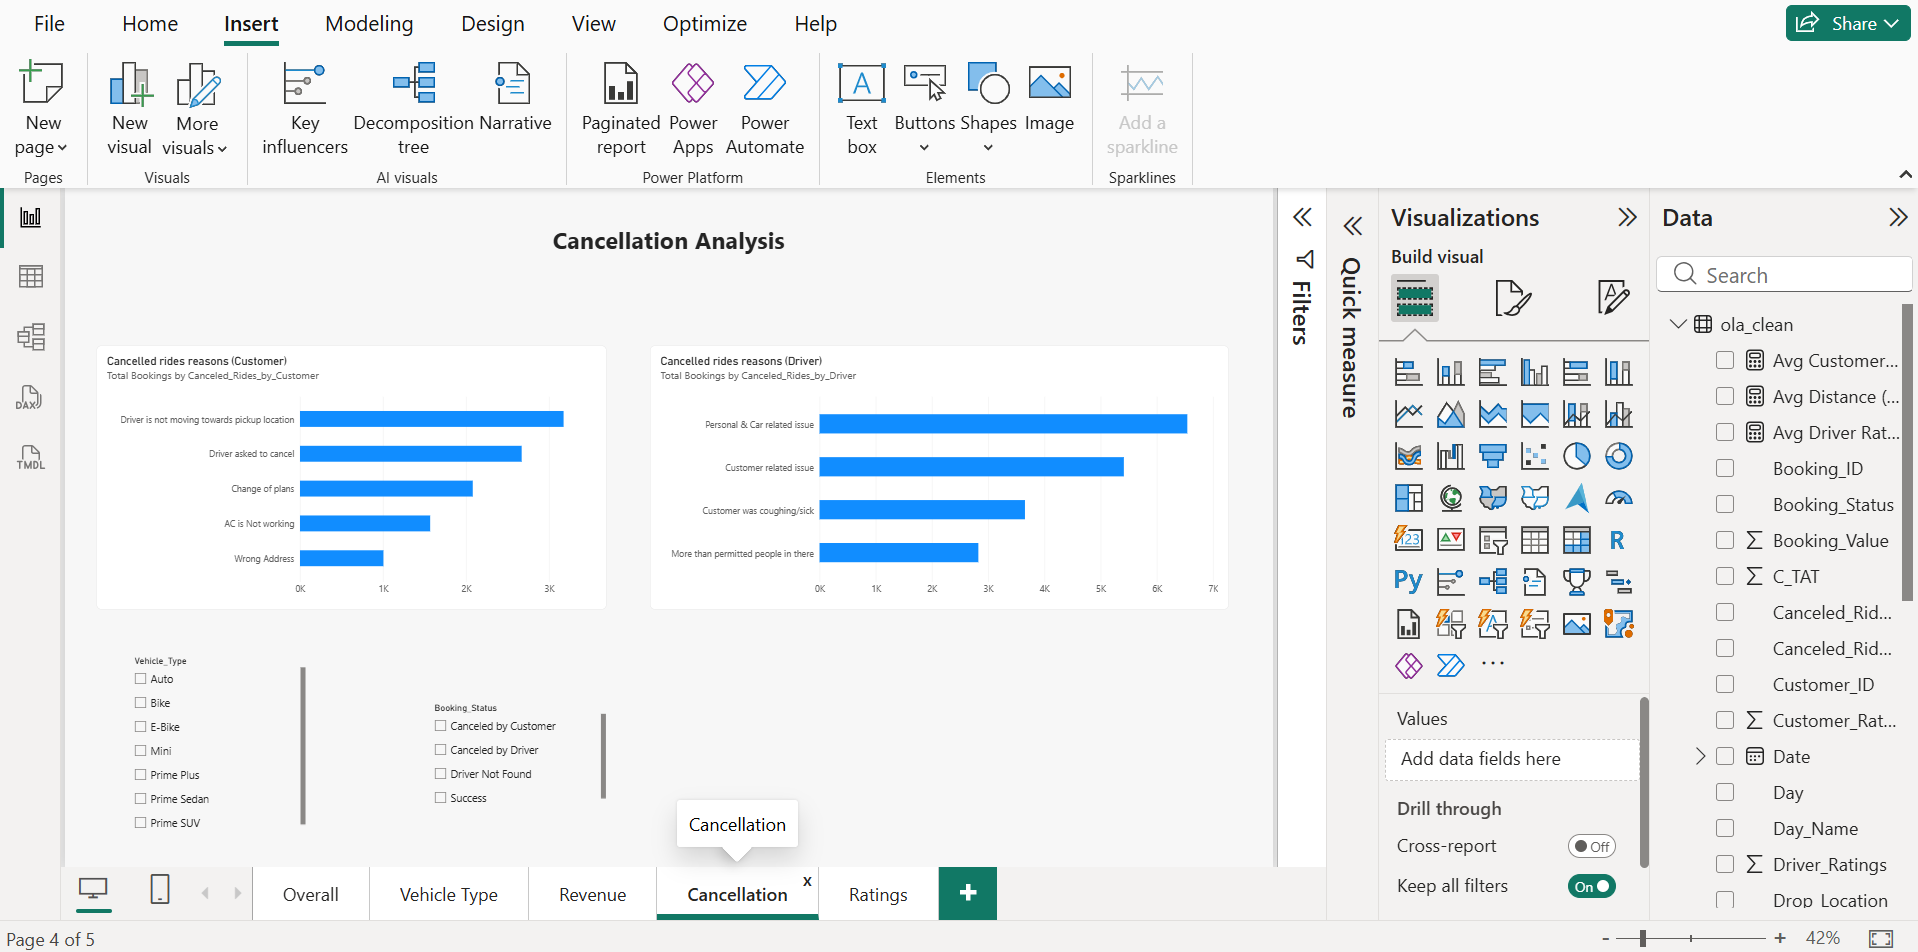

This screenshot's page, from the dashboard's own definition file:
{"tool":"powerbi","page":{"name":"Cancellation","canvas":[1920,1080],"ordinal":3},"visuals":[{"type":"slicer","fields":{"Values":["ola_clean.Vehicle_Type"]},"box":[102.6,744.4,280,280],"z":0},{"type":"slicer","fields":{"Values":["ola_clean.Booking_Status"]},"box":[579.8,818.4,280.6,164.4],"z":1000},{"type":"clusteredBarChart","title":"Cancelled rides reasons (Customer)","fields":{"Category":["ola_clean.Canceled_Rides_by_Customer"],"Y":["ola_clean.Total Bookings"]},"box":[50.1,250.5,811.2,419.9],"z":2000},{"type":"clusteredBarChart","title":"Cancelled rides reasons (Driver)","fields":{"Category":["ola_clean.Canceled_Rides_by_Driver"],"Y":["ola_clean.Total Bookings"]},"box":[930.5,250.5,921,419.9],"z":3000},{"type":"textbox","box":[0,57.3,1920.7,105],"z":4000}]}

Visuals, with their boxes on the page's 1920x1080 design canvas (x1, y1, x2, y2). These are canvas units, not pixel positions in the 1918x952 screenshot, which may show the page scaled, cropped or inside an application window:
slicer - ola_clean.Vehicle_Type: box=[103, 744, 383, 1024]
slicer - ola_clean.Booking_Status: box=[580, 818, 860, 983]
"Cancelled rides reasons (Customer)" clusteredBarChart: box=[50, 250, 861, 670]
"Cancelled rides reasons (Driver)" clusteredBarChart: box=[930, 250, 1852, 670]
textbox: box=[0, 57, 1921, 162]
